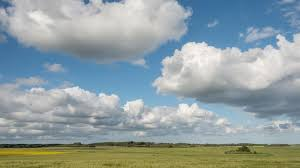Cumulus: (2, 1, 185, 62), (159, 38, 299, 116)
Stratus: (3, 80, 226, 137)
